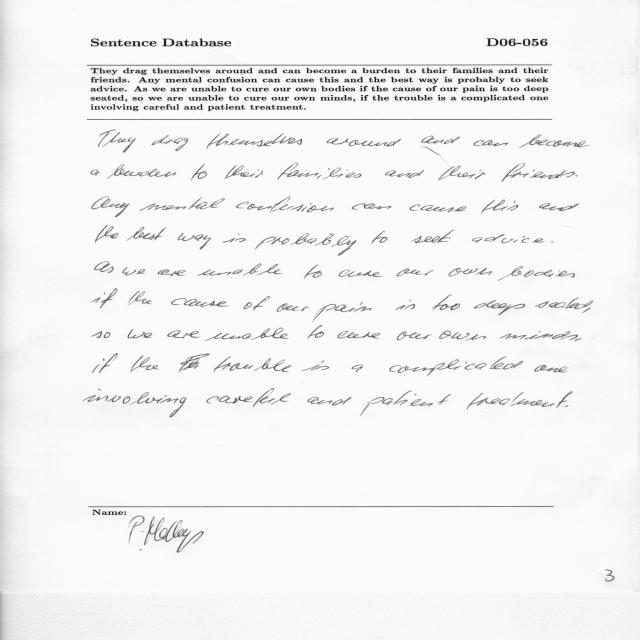word: (83, 389, 187, 417), (389, 357, 523, 377), (360, 390, 451, 416), (255, 233, 356, 256), (179, 354, 292, 373), (467, 391, 573, 410), (206, 389, 291, 408), (236, 197, 334, 213), (207, 133, 302, 149), (278, 163, 362, 180), (502, 163, 575, 182), (139, 197, 225, 211), (312, 302, 372, 322), (498, 266, 575, 281), (197, 263, 282, 276), (205, 328, 289, 341), (107, 164, 176, 179), (519, 135, 589, 148), (98, 130, 136, 153), (421, 136, 460, 156), (474, 300, 525, 315), (92, 197, 129, 217), (439, 166, 487, 181), (499, 331, 578, 340), (327, 138, 401, 147), (472, 234, 544, 243), (535, 298, 593, 309), (152, 135, 189, 151), (127, 227, 167, 241), (481, 199, 518, 214), (224, 165, 263, 179), (413, 230, 454, 243), (178, 233, 211, 249), (171, 298, 229, 307), (93, 354, 118, 374), (92, 289, 118, 308), (130, 355, 159, 372), (439, 331, 486, 341), (410, 205, 467, 213), (432, 295, 460, 311), (243, 296, 270, 311), (307, 397, 352, 406), (96, 225, 119, 242), (449, 268, 492, 276), (337, 331, 380, 339), (396, 332, 432, 341), (128, 291, 151, 305), (539, 203, 579, 211), (338, 270, 383, 277), (385, 170, 424, 178), (301, 360, 329, 371), (167, 330, 200, 339), (396, 269, 433, 277), (277, 303, 309, 312), (352, 203, 392, 210), (191, 164, 207, 181), (304, 265, 322, 279), (371, 230, 388, 244), (308, 325, 325, 339), (534, 365, 567, 372), (128, 329, 153, 338), (395, 299, 415, 310), (95, 262, 114, 273), (223, 233, 246, 242), (474, 140, 508, 146), (157, 269, 186, 276), (122, 267, 145, 275), (92, 331, 111, 338), (352, 365, 364, 372), (91, 169, 100, 176), (582, 307, 591, 313), (575, 338, 582, 341), (565, 405, 568, 407), (576, 175, 578, 177), (551, 241, 553, 242)
